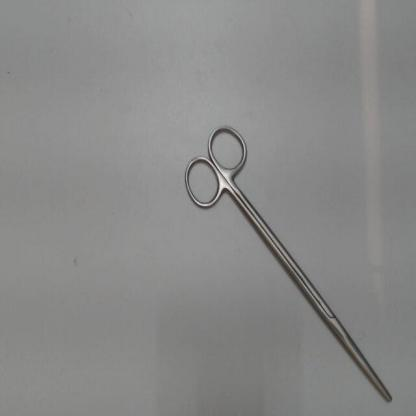9 Metzenbaum Scissors: (179, 117, 394, 406)
